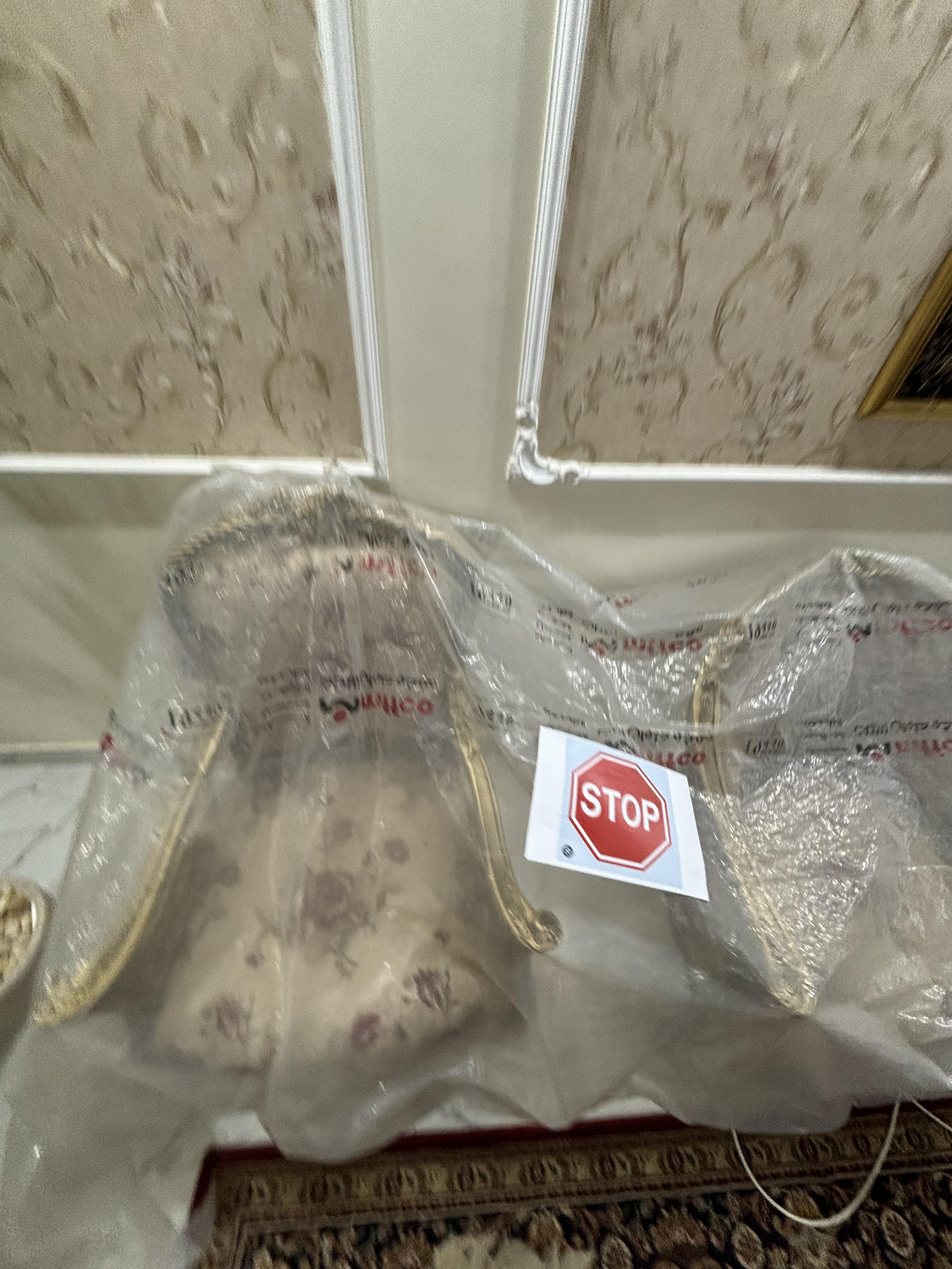Stop: (563, 749, 678, 872)
